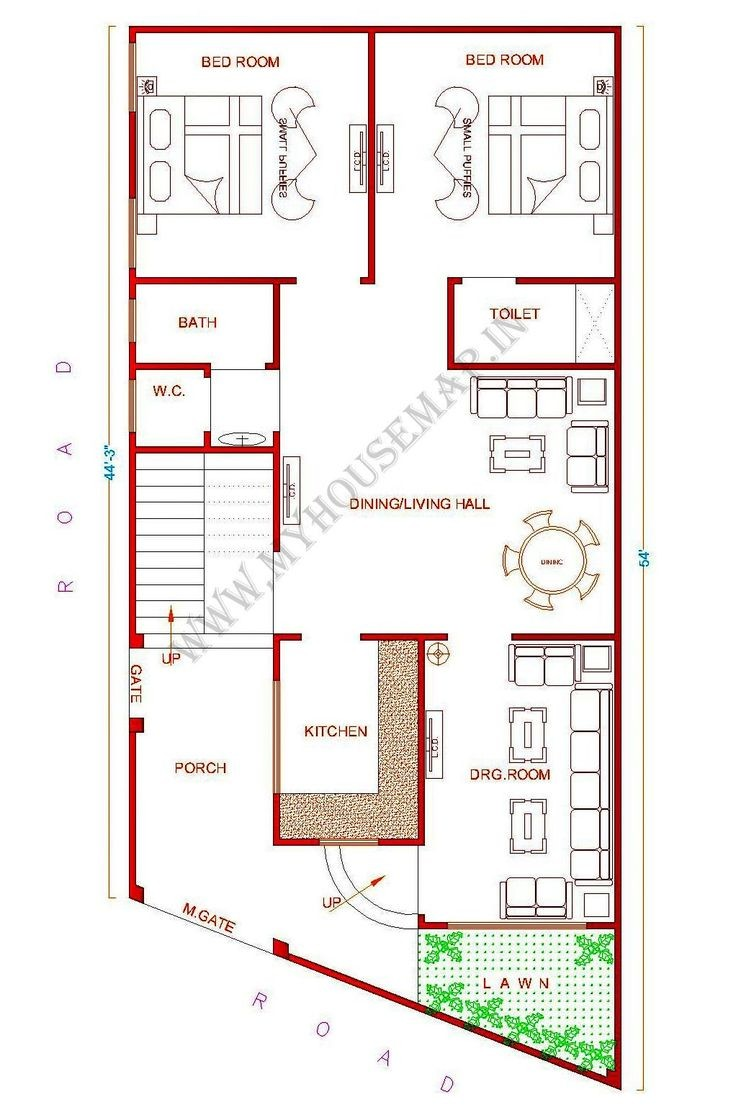room: (275, 366, 610, 636), (371, 25, 622, 290), (129, 25, 375, 281), (424, 634, 619, 927), (127, 634, 275, 896), (271, 633, 431, 848), (128, 441, 289, 635), (453, 278, 621, 377), (128, 273, 281, 375), (127, 363, 210, 448)
wall: (601, 16, 631, 1094), (124, 8, 629, 45), (435, 346, 632, 385), (356, 14, 383, 290), (407, 625, 432, 854), (121, 428, 146, 652), (122, 267, 304, 291), (515, 266, 633, 303), (127, 713, 146, 902), (434, 275, 470, 373), (116, 351, 221, 383), (259, 265, 285, 378), (260, 792, 301, 854), (506, 631, 624, 652), (376, 827, 439, 865), (350, 626, 457, 648), (260, 832, 331, 857)
window: (260, 676, 295, 795), (447, 916, 589, 939), (121, 197, 154, 271), (121, 40, 149, 116), (125, 375, 145, 429), (121, 297, 143, 346)
